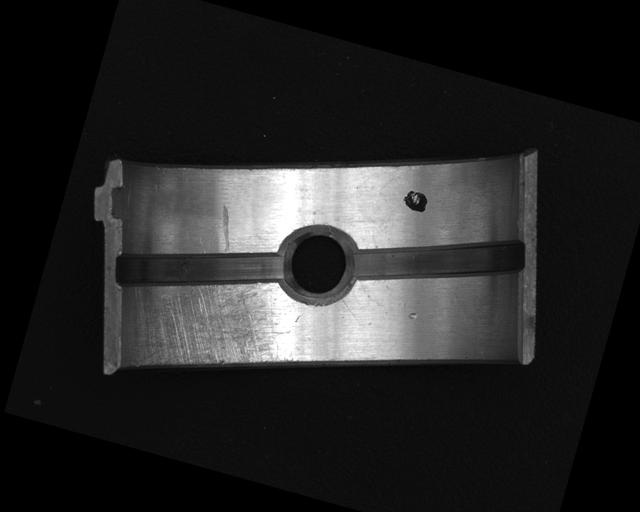blot: (400, 187, 431, 215)
bruise: (406, 309, 419, 322)
gap: (346, 198, 530, 322), (111, 213, 289, 326)
hole: (270, 216, 365, 312)
nick: (210, 203, 241, 255), (334, 297, 367, 327)
scratch: (115, 252, 302, 407)
